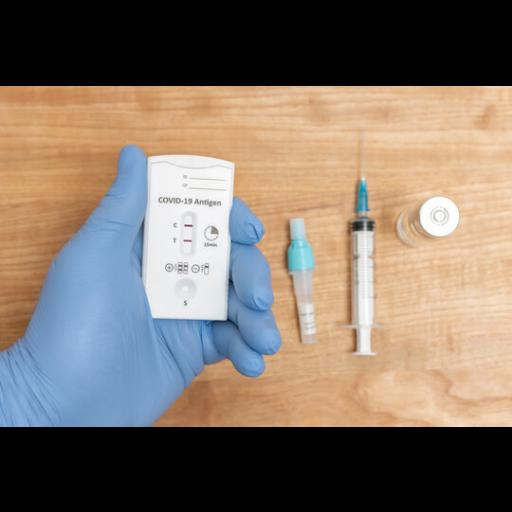Pos: (148, 154, 230, 316)
